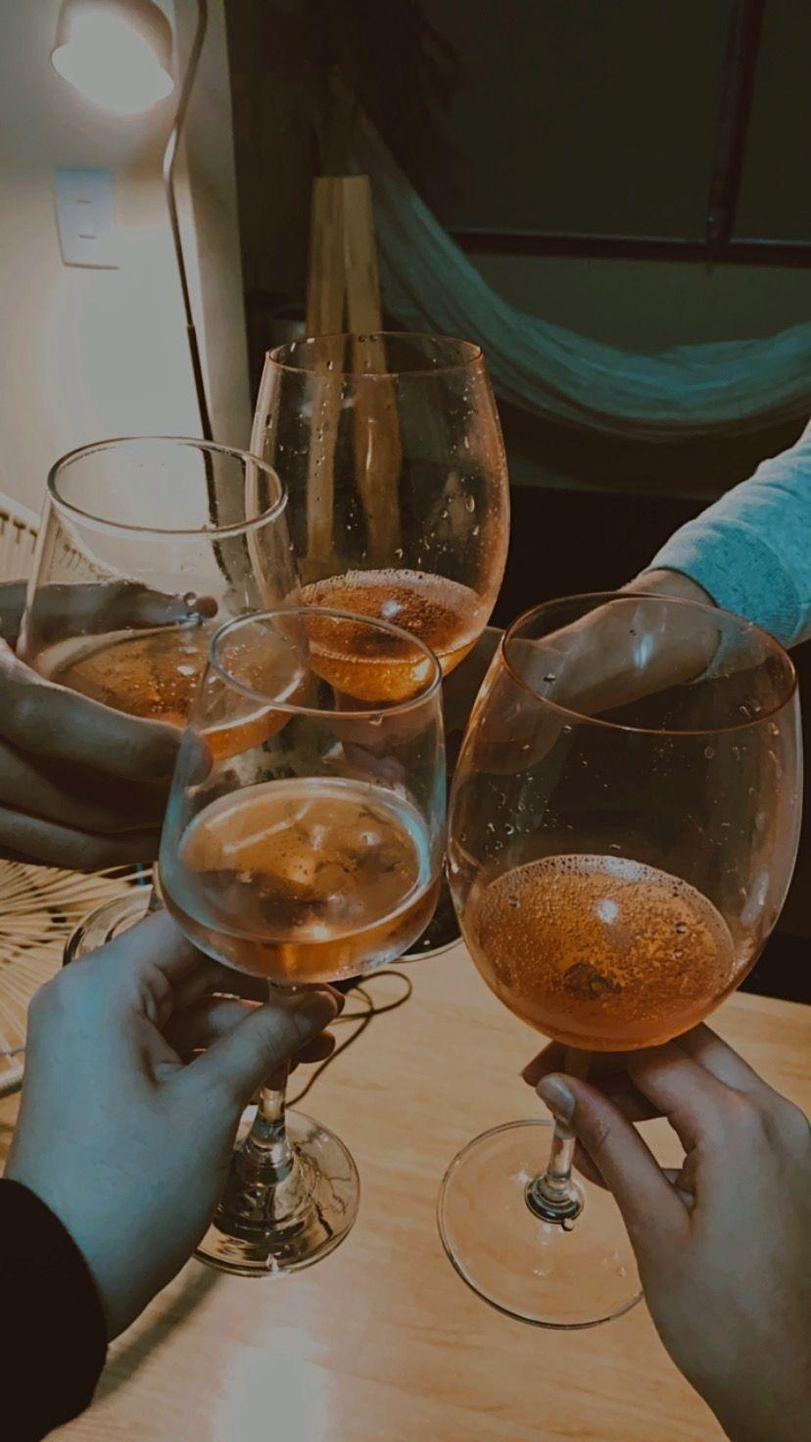glass-wine: (429, 591, 804, 1329), (11, 428, 313, 1137), (148, 606, 448, 1278), (243, 328, 521, 1029)
